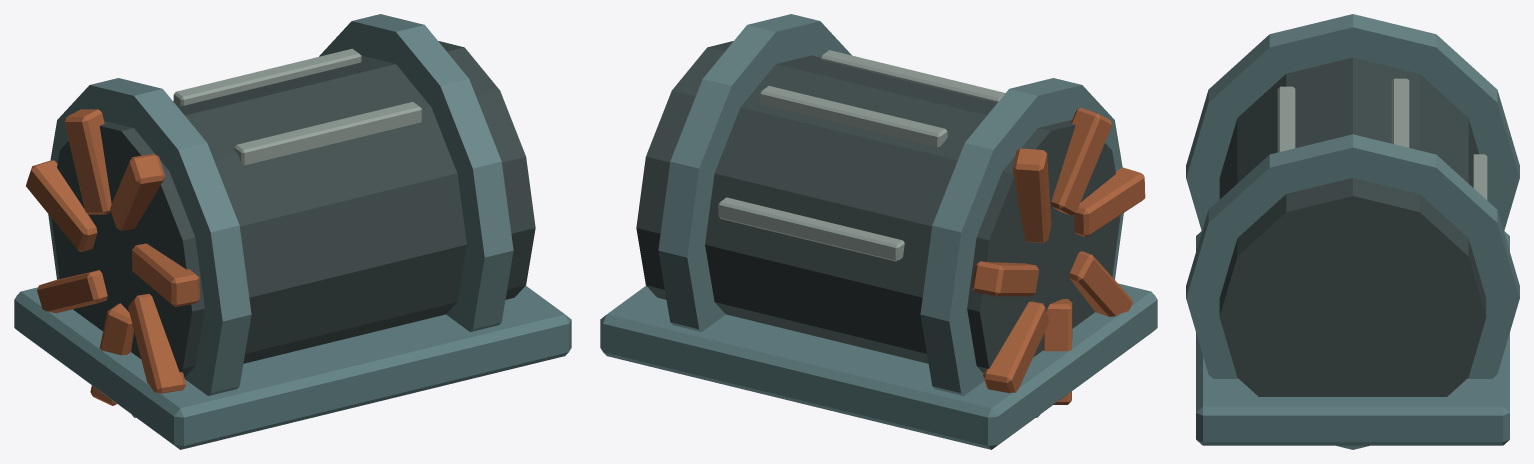
The model's file is Machine_Wreck.glb.
3 renders of one model, left to right at view 1: azimuth 30°, elevation 25°; view 2: azimuth 150°, elevation 25°; view 3: azimuth 270°, elevation 25°, orthographic. The views are drawn at different scales.
Visible parts, largest first — view 1: Machine_Wreck; view 2: Machine_Wreck; view 3: Machine_Wreck.
Boxes of the visible parts, box(x1,y1,x2,y2) form: Machine_Wreck: box(14, 14, 571, 449); Machine_Wreck: box(600, 14, 1157, 449); Machine_Wreck: box(1186, 14, 1519, 449).
Size of the model in its own units: 2.2 by 1.7 by 1.7.
